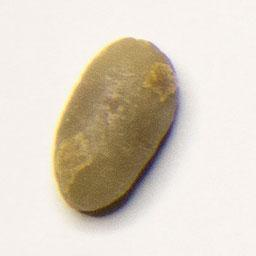longberry: (50, 34, 183, 217)
